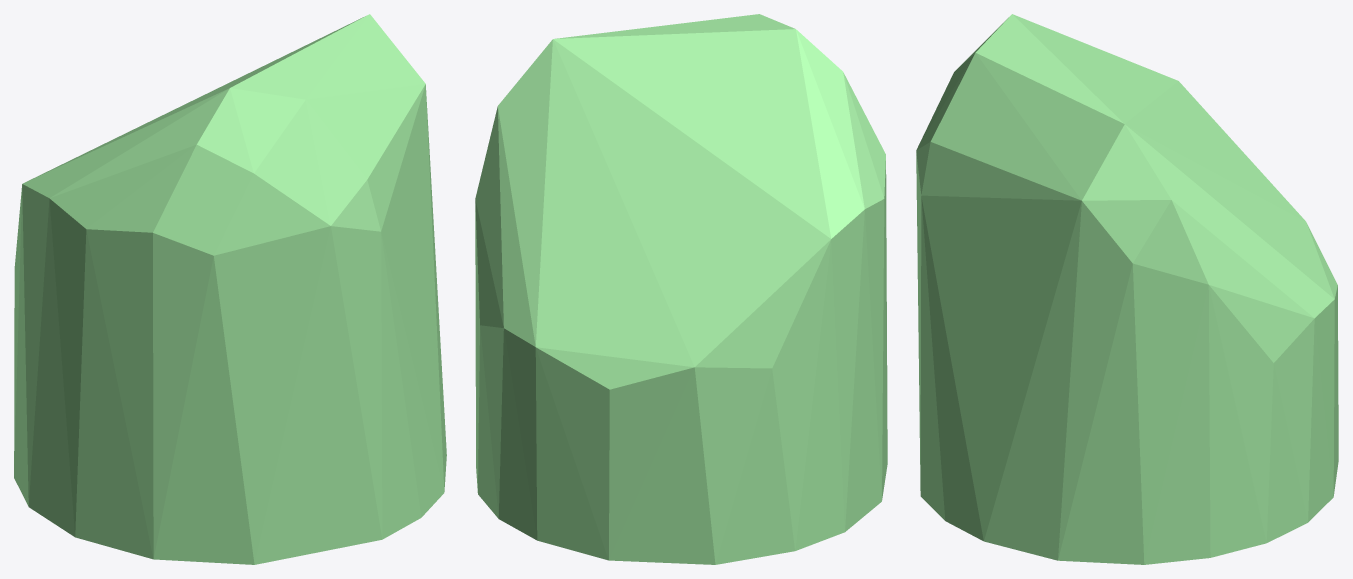
The model's file is panda_link6_resp_coll_4.dae.
3 views of the same model, side by side, from view 1: azimuth 30°, elevation 25°; view 2: azimuth 150°, elevation 25°; view 3: azimuth 270°, elevation 25° (orthographic). The views are drawn at different scales.
Parts seen in each view (by area): view 1: node; view 2: node; view 3: node.
Boxes of the visible parts, x1,y1,x2,y2 form: node: [14, 14, 446, 564]; node: [475, 14, 887, 564]; node: [916, 14, 1338, 564].
Size of the model in its own units: 0.0957 by 0.1079 by 0.0955.
